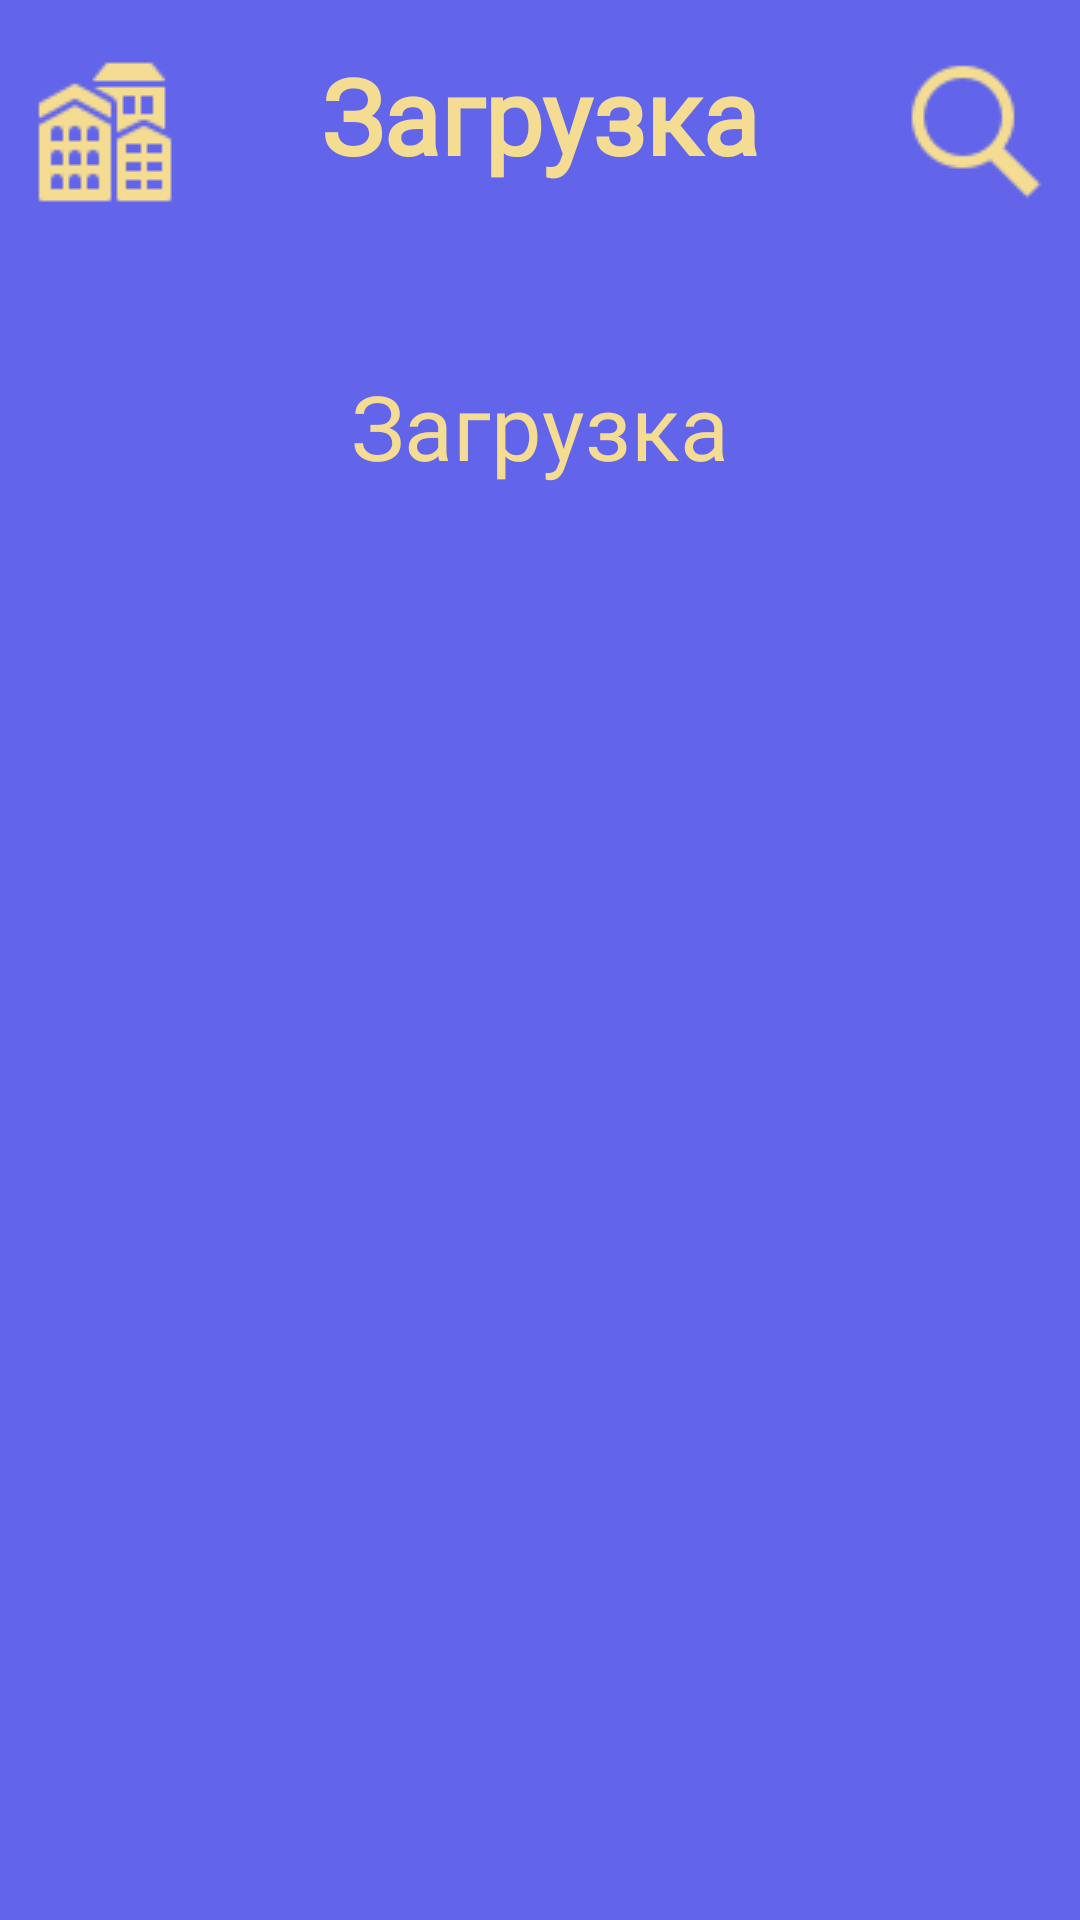

Named icons in this screenshot (1080×1920) and their centers, (x,y):
cities: (105,132)
search: (976,131)
